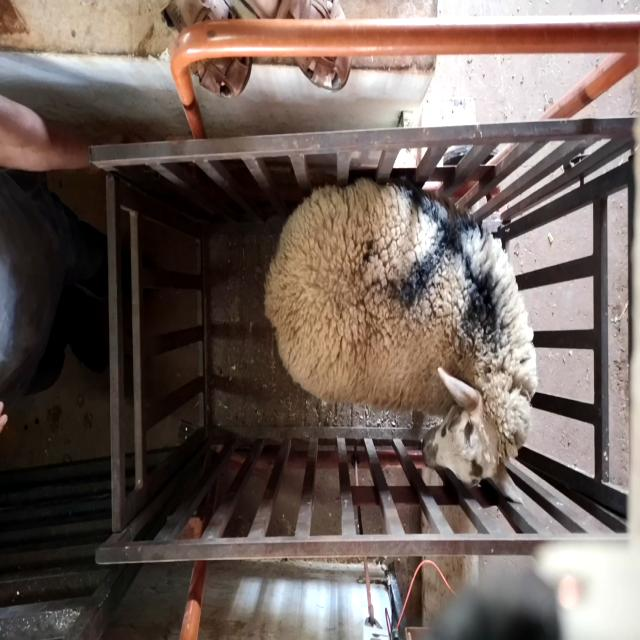sheep: (264, 177, 537, 503)
